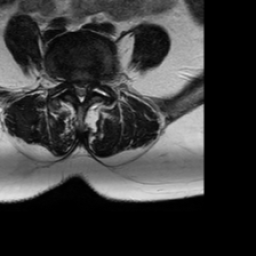CCS_stenosis: (77, 76, 85, 108)
LFS_severe_stenosis: (91, 75, 98, 90)
LLS_severe_stenosis: (85, 77, 91, 93)
RFS_severe_stenosis: (62, 73, 71, 92)
RLS_severe_stenosis: (70, 75, 78, 96)
